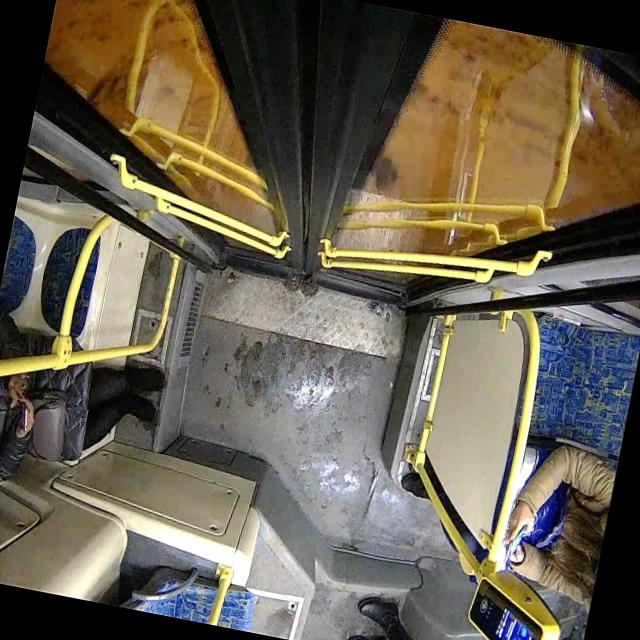bus-door: (35, 0, 640, 306)
